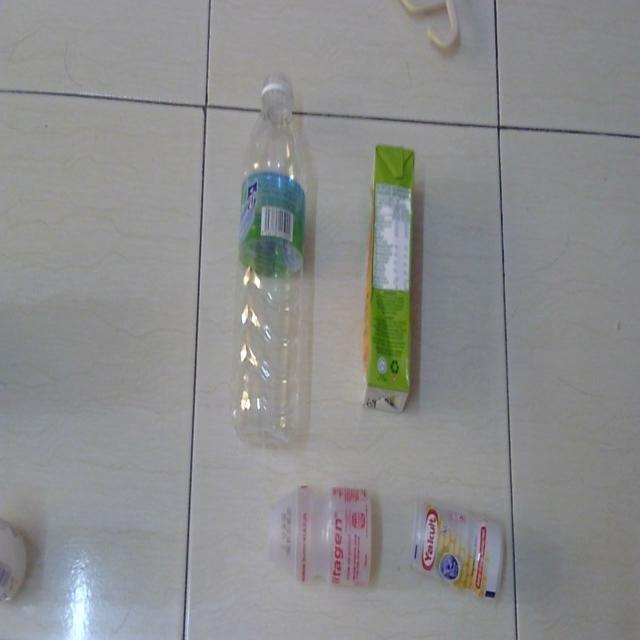plastic_laydown_0rotation: (263, 479, 388, 587), (406, 489, 514, 607)
plastic_laydown_90rotation: (233, 67, 313, 449), (358, 133, 423, 431)
